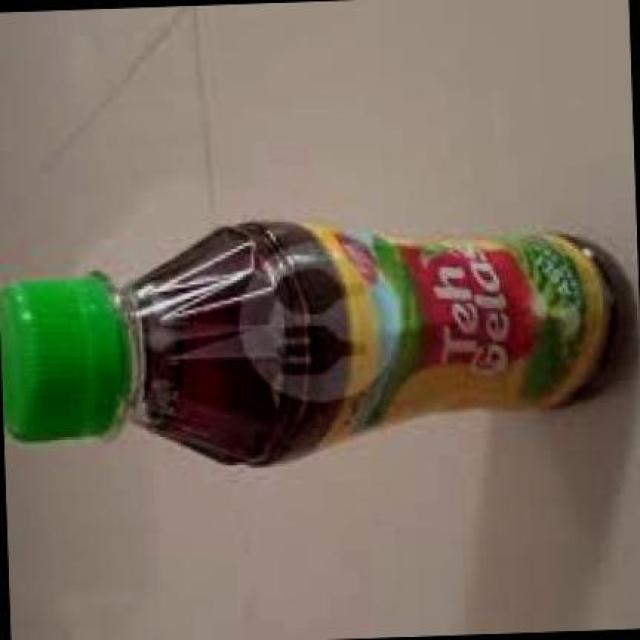high: (0, 222, 615, 464)
